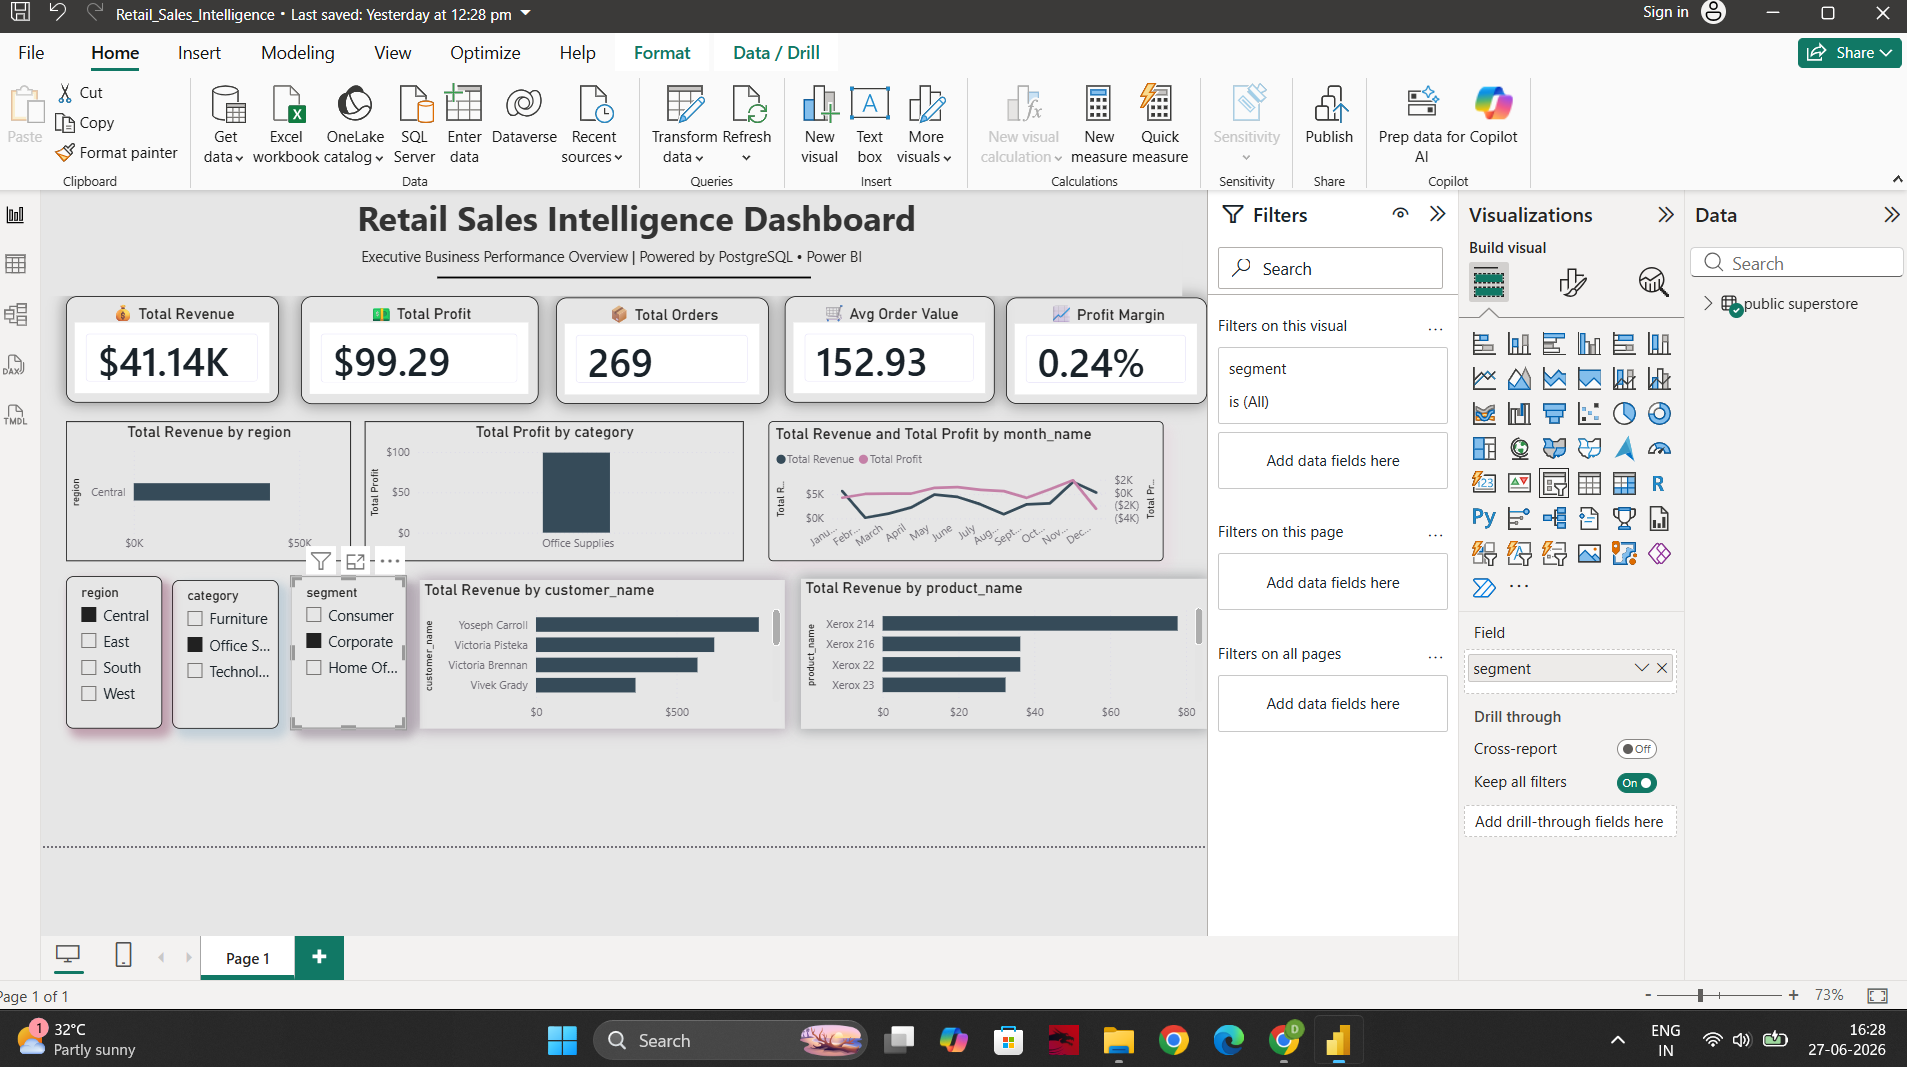

What the dashboard file says about the page in this screenshot:
{"tool":"powerbi","page":{"name":"Page 1","canvas":[1280,720],"ordinal":0},"visuals":[{"type":"cardVisual","title":"💰 Total Revenue","fields":{"Data":["public superstore.Total Revenue"]},"box":[27.4,116.6,233.3,116.6],"z":0},{"type":"cardVisual","title":"💵 Total Profit","fields":{"Data":["public superstore.Total Profit"]},"box":[285.4,116.6,260.7,118],"z":1000},{"type":"cardVisual","title":"📦 Total Orders","fields":{"Data":["public superstore.Total Orders"]},"box":[565.4,118,233.3,116.6],"z":2000},{"type":"cardVisual","title":"🛒 Avg Order Value","fields":{"Data":["public superstore.Average Order Value"]},"box":[816.5,116.6,230.5,116.6],"z":3000},{"type":"cardVisual","title":"📈 Profit Margin","fields":{"Data":["public superstore.Profit Margin"]},"box":[1059.4,118,220.9,116.6],"z":4000},{"type":"textbox","box":[27.4,0,1252.8,65.9],"z":5000},{"type":"textbox","box":[0,56.3,1252.8,60.4],"z":6000},{"type":"shape","box":[435,56.3,410.3,79.6],"z":7000},{"type":"clusteredBarChart","fields":{"Category":["public superstore.region"],"Y":["public superstore.Total Revenue"]},"box":[27.4,253.9,312.9,153.7],"z":8000},{"type":"clusteredColumnChart","fields":{"Category":["public superstore.category"],"Y":["public superstore.Total Profit"]},"box":[355.4,253.9,415.8,153.7],"z":9000},{"type":"lineChart","fields":{"Y":["public superstore.Total Revenue"],"Category":["public superstore.month_name"],"Y2":["public superstore.Total Profit"]},"box":[798.6,253.9,433.6,153.7],"z":10000},{"type":"clusteredBarChart","fields":{"Category":["public superstore.customer_name"],"Y":["public superstore.Total Revenue"]},"box":[415.8,428.1,400.7,163.3],"z":11000},{"type":"clusteredBarChart","fields":{"Category":["public superstore.product_name"],"Y":["public superstore.Total Revenue"]},"box":[834.3,426.8,446,164.7],"z":12000},{"type":"slicer","fields":{"Values":["public superstore.category"]},"box":[144.1,428.1,116.6,163.3],"z":13000},{"type":"slicer","fields":{"Values":["public superstore.region"]},"box":[27.4,424,105.7,167.4],"z":14000},{"type":"slicer","fields":{"Values":["public superstore.segment"]},"box":[274.4,424,126.2,167.4],"z":14001}]}

Visuals, with their boxes on the page's 1280x720 design canvas (x1, y1, x2, y2). These are canvas units, not pixel positions in the 1907x1067 screenshot, which may show the page scaled, cropped or inside an application window:
"💰 Total Revenue" cardVisual: [x1=27, y1=117, x2=261, y2=233]
"💵 Total Profit" cardVisual: [x1=285, y1=117, x2=546, y2=235]
"📦 Total Orders" cardVisual: [x1=565, y1=118, x2=799, y2=235]
"🛒 Avg Order Value" cardVisual: [x1=816, y1=117, x2=1047, y2=233]
"📈 Profit Margin" cardVisual: [x1=1059, y1=118, x2=1280, y2=235]
textbox: [x1=27, y1=0, x2=1280, y2=66]
textbox: [x1=0, y1=56, x2=1253, y2=117]
shape: [x1=435, y1=56, x2=845, y2=136]
clusteredBarChart - public superstore.region x public superstore.Total Revenue: [x1=27, y1=254, x2=340, y2=408]
clusteredColumnChart - public superstore.category x public superstore.Total Profit: [x1=355, y1=254, x2=771, y2=408]
lineChart - public superstore.Total Revenue x public superstore.month_name: [x1=799, y1=254, x2=1232, y2=408]
clusteredBarChart - public superstore.customer_name x public superstore.Total Revenue: [x1=416, y1=428, x2=816, y2=591]
clusteredBarChart - public superstore.product_name x public superstore.Total Revenue: [x1=834, y1=427, x2=1280, y2=592]
slicer - public superstore.category: [x1=144, y1=428, x2=261, y2=591]
slicer - public superstore.region: [x1=27, y1=424, x2=133, y2=591]
slicer - public superstore.segment: [x1=274, y1=424, x2=401, y2=591]
